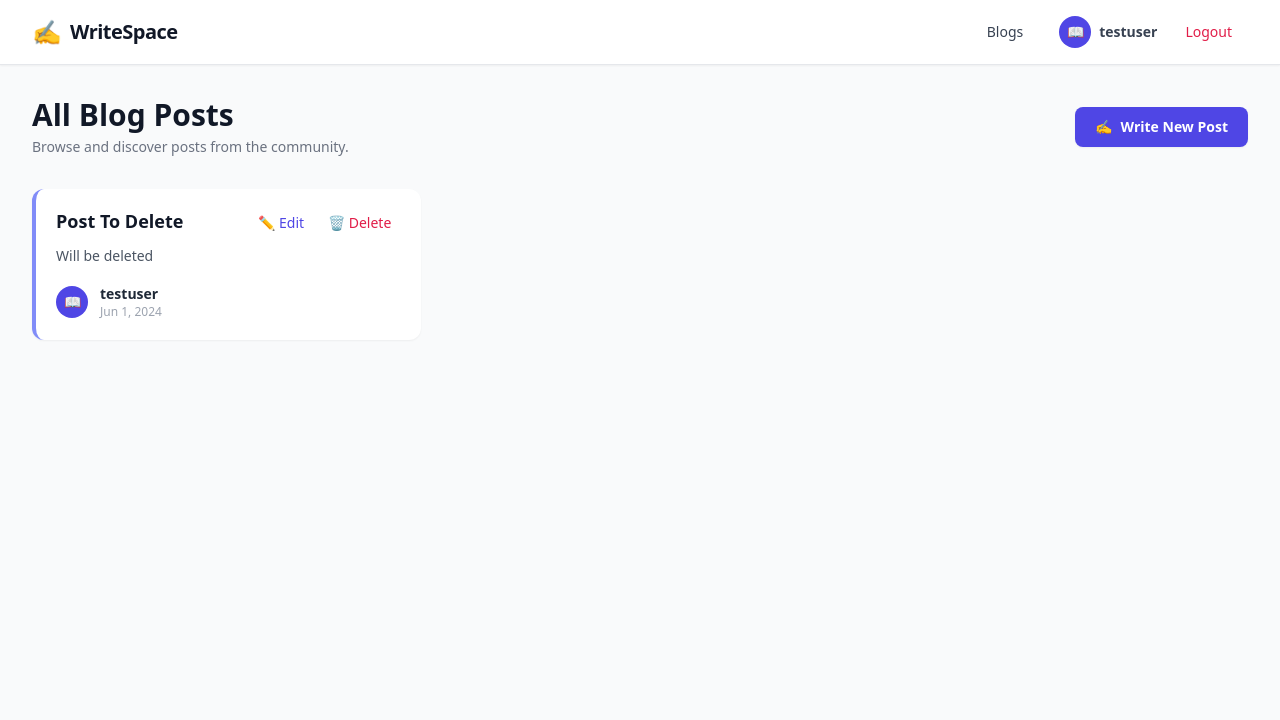
Test: Home page › delete post interaction › removes a post from the list when delete is confirmed
Expected: the heading "Post To Delete" is shown, [56,209,183,234]
Click the button with aria-label "delete post: post to delete" at point(360, 223), box [318,209,401,237]
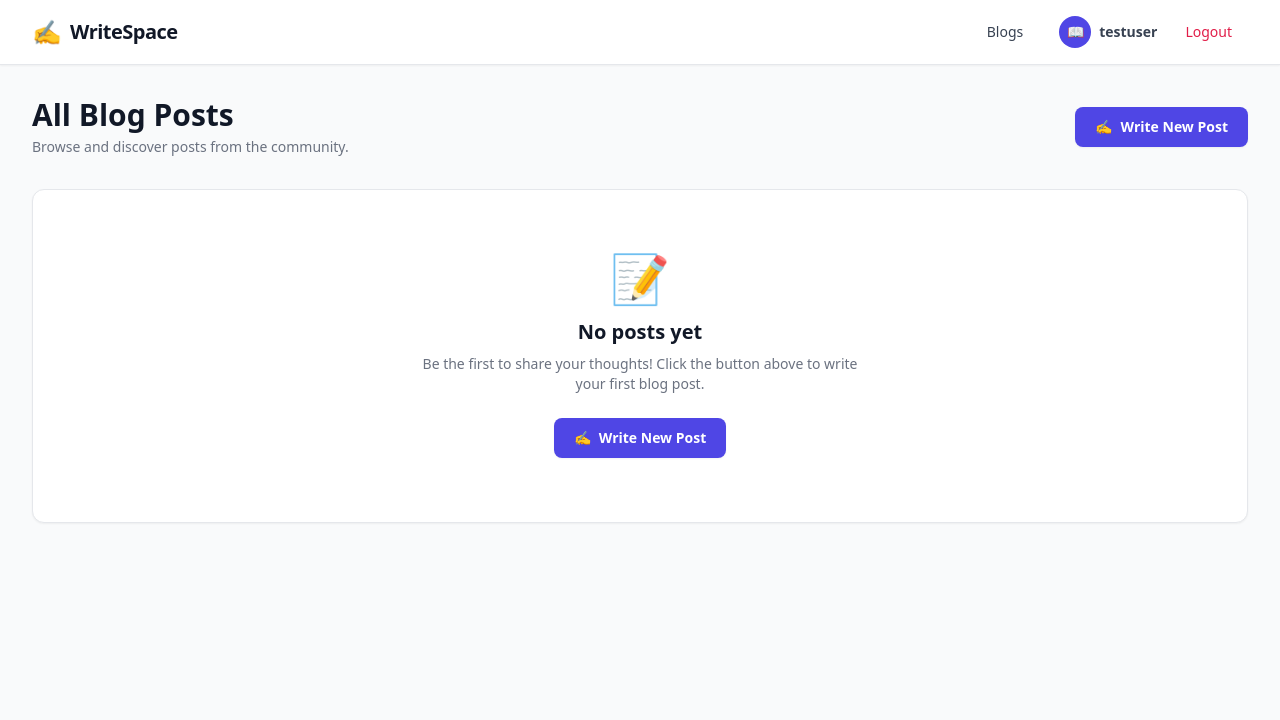
Expected: the heading "Post To Delete" is gone
Expected: the heading "No posts yet" is shown, [578,318,702,346]
